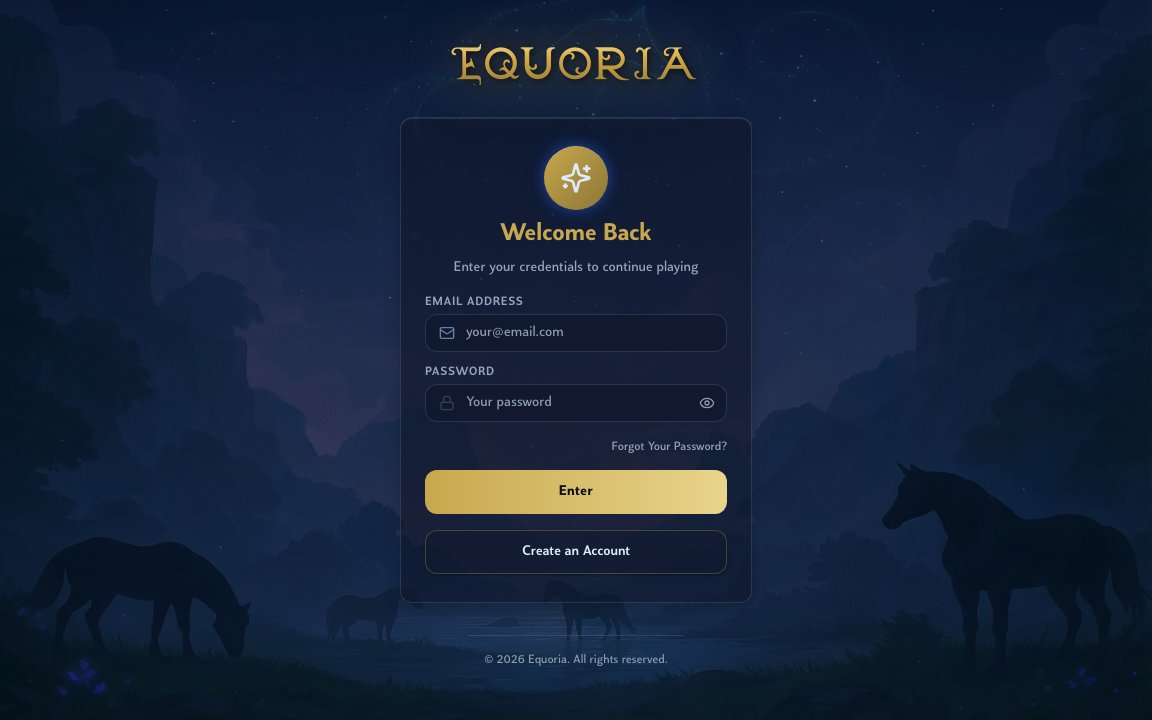
Test case: LoginPage — credential error copy › displays server error message
This screenshot has width=1152, height=720.
In the field labelled "Email Address": point(576, 332) [425, 314, 727, 352], type "john@example.com"
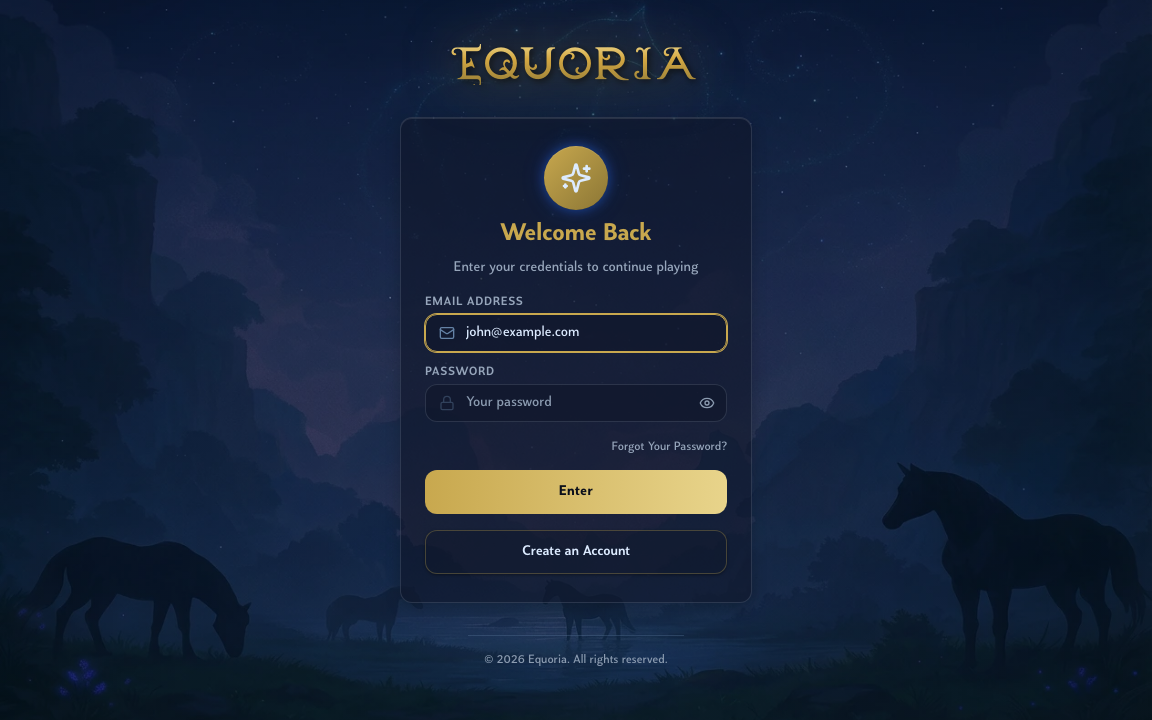
In the password field labelled "Password": point(576, 402) [425, 384, 727, 422], type "password123"
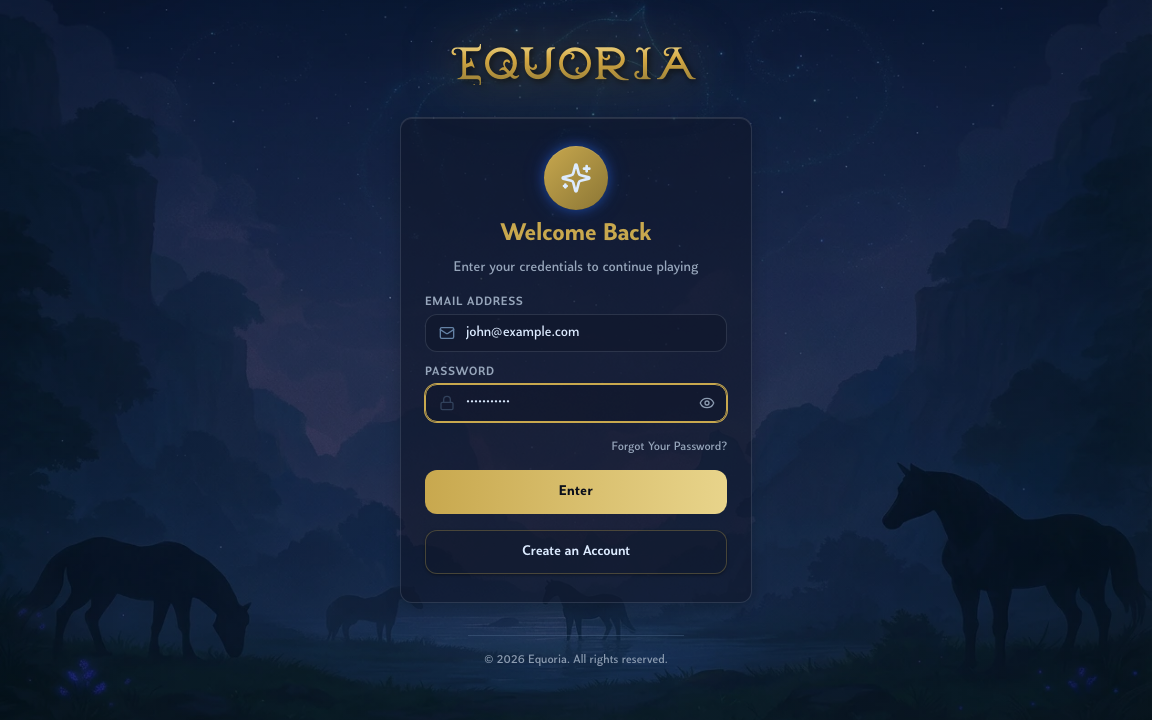
Click the button "Enter": point(576, 492) [425, 470, 727, 514]
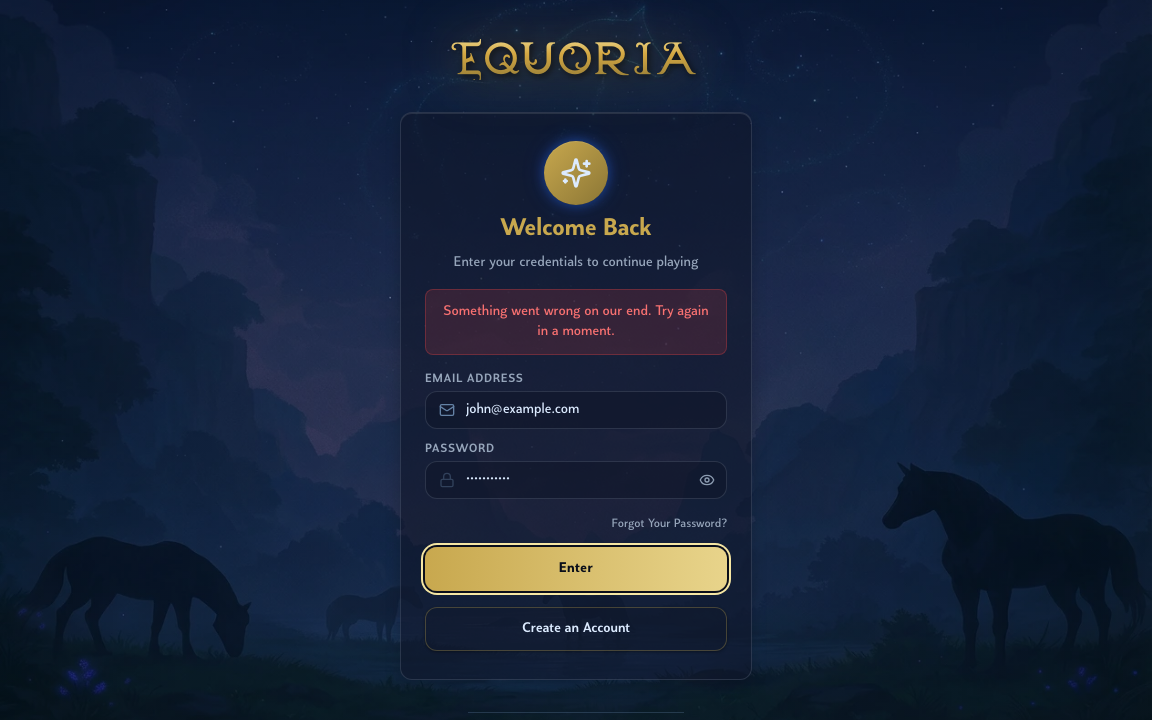
Expected: the text "Something went wrong on our end. Try again in a moment." is shown, [438, 302, 714, 342]
